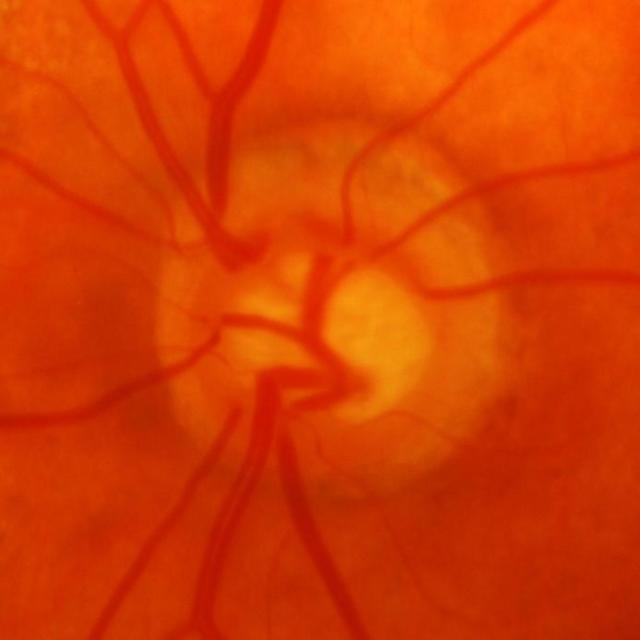OC: (239, 259, 427, 430)
OD: (153, 148, 505, 488)
